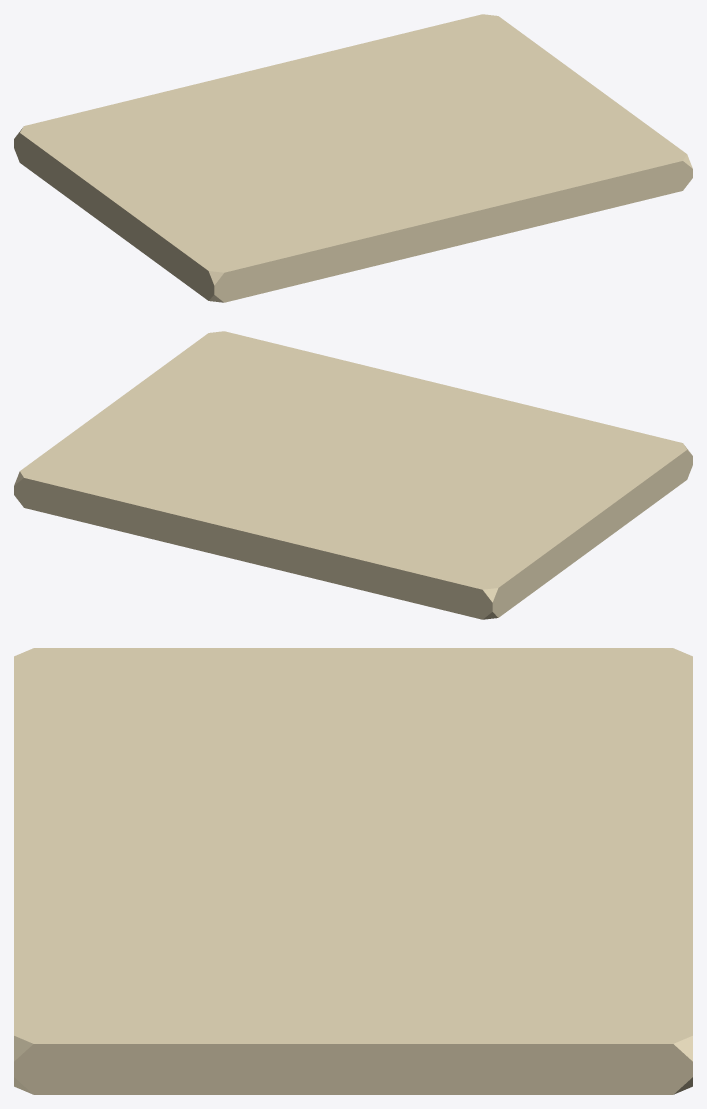
File: CuttingBoard.glb
3 views of the same model, one above another, from view 1: azimuth 30°, elevation 25°; view 2: azimuth 150°, elevation 25°; view 3: azimuth 270°, elevation 25° (orthographic). The views are drawn at different scales.
Visible parts, largest first — view 1: CuttingBoard; view 2: CuttingBoard; view 3: CuttingBoard.
Part boxes in pixels (x1,y1,x2,y2): CuttingBoard: (14,14,692,302); CuttingBoard: (14,331,692,619); CuttingBoard: (14,648,692,1094).
Bounding box in the file's own units: 0.4 × 0.024 × 0.29.
